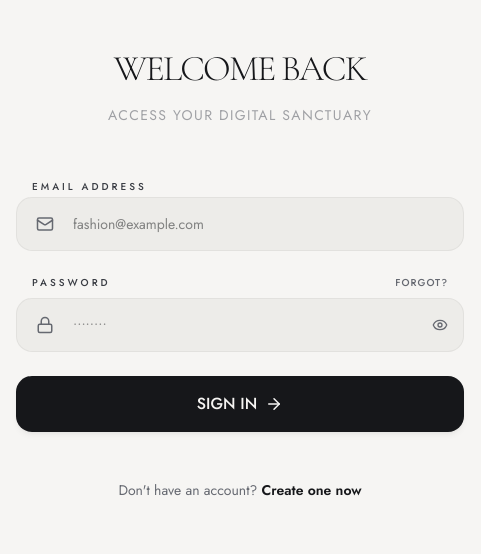
Test: where the user lands after authenticating › a failed login stays on the page and shows the server message
Type "me@example.com" into the field with placeholder "fashion@example.com". click: (240, 224)
box: [16,196,464,250]
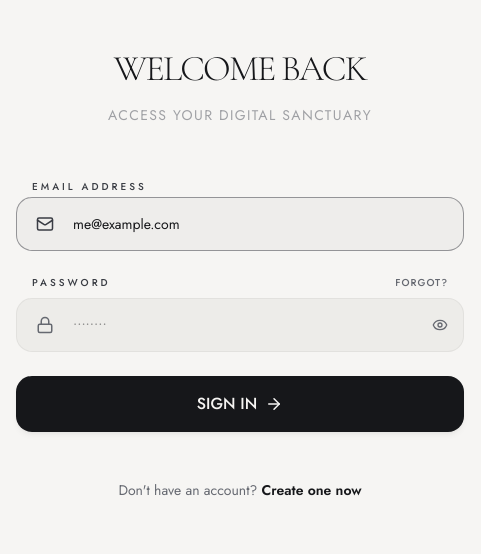
Type "wrong-password" into the password field with placeholder "••••••••". click: (240, 324)
box: [16,298,464,352]
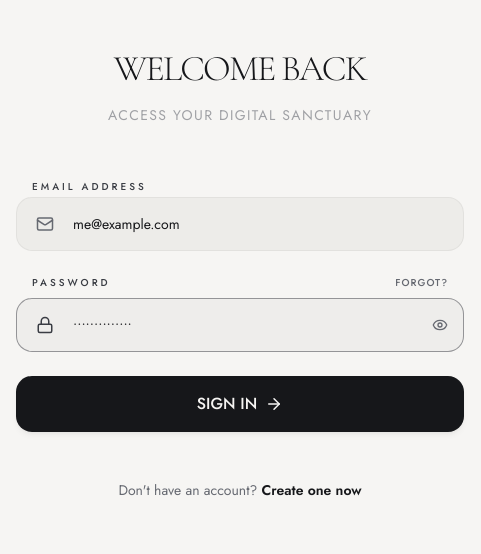
Click the button "SIGN IN". click: click(240, 404)
box: [16,376,464,432]
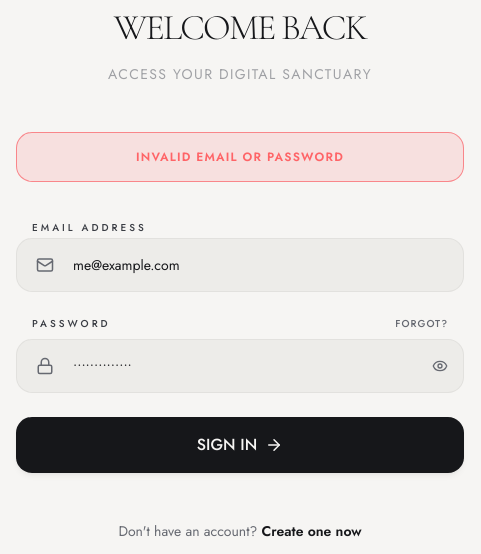
Check: the text "Invalid email or password" is shown, box [16,132,464,182]
